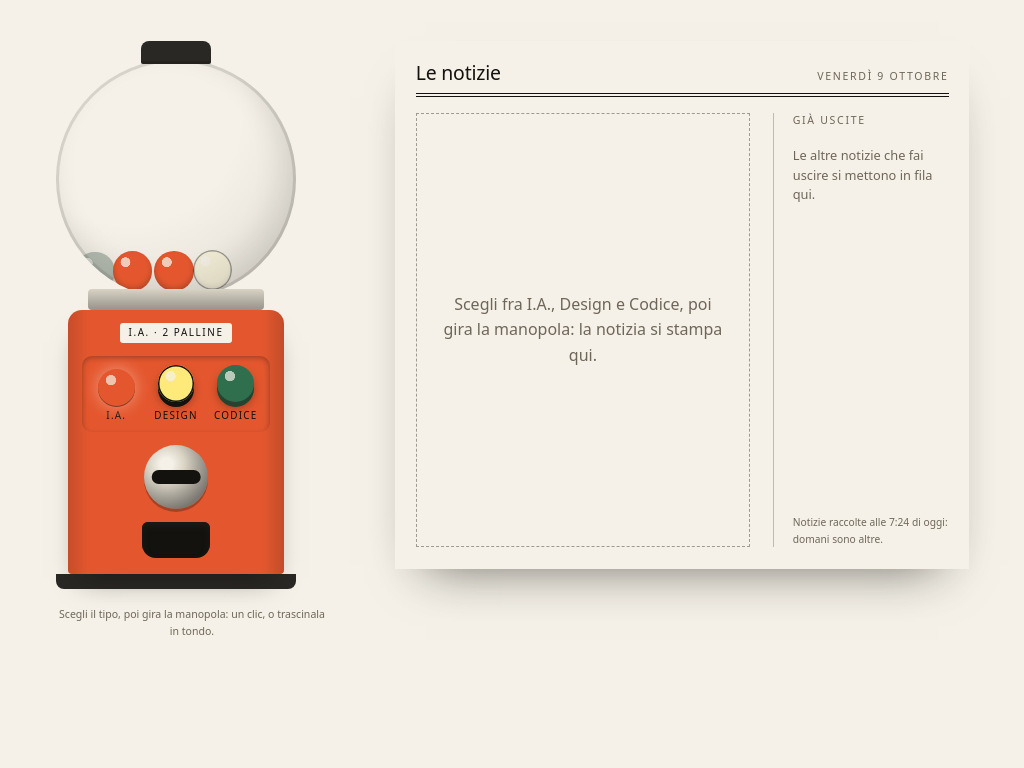
Test: le notizie: il giro › un giro stampa la notizia sotto la testata della categoria, e annuncia solo testata e titolo
(page scrolled)
Expected: the text "Le notizie" is shown, [416,61,501,85]
Step 1. Click the button named "Gira la manopola: esce una notizia" → [176, 477], box [144,445,208,509]
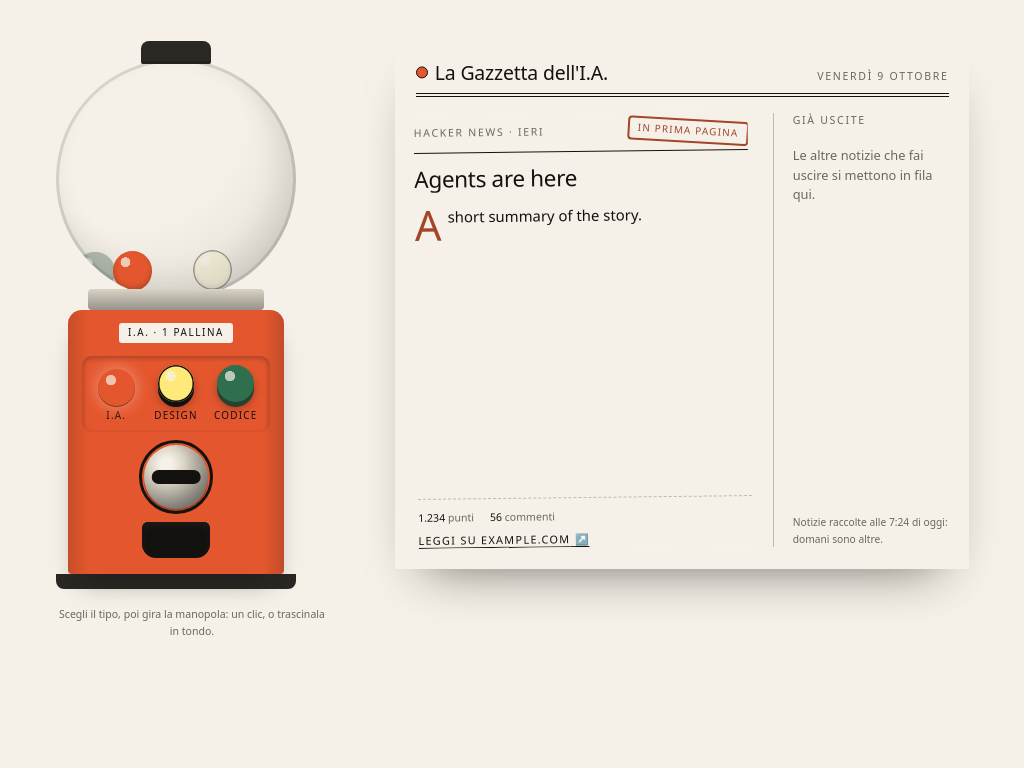
Now the element showing "La Gazzetta dell'I.A." is shown, box [416,61,608,85]
Now the heading reads "Agents are here", box [414,162,577,195]
Now the element that starts with "Hacker News" shows "Hacker News · ieri", box [413,111,753,549]
